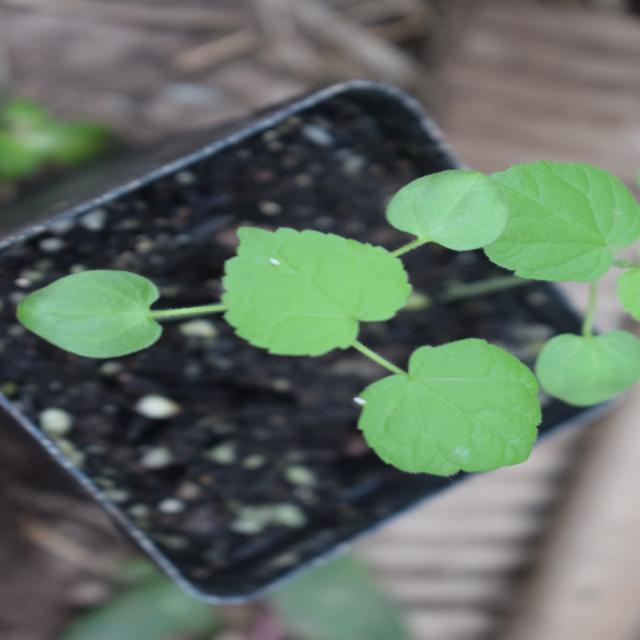abutilon theophrasti: (156, 104, 492, 598)
